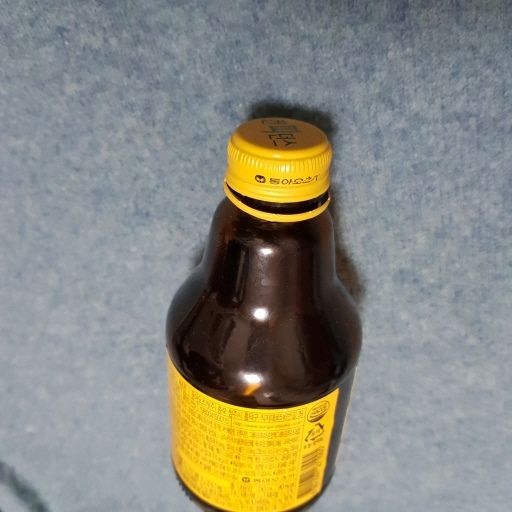Glass_3: (163, 116, 365, 512)
